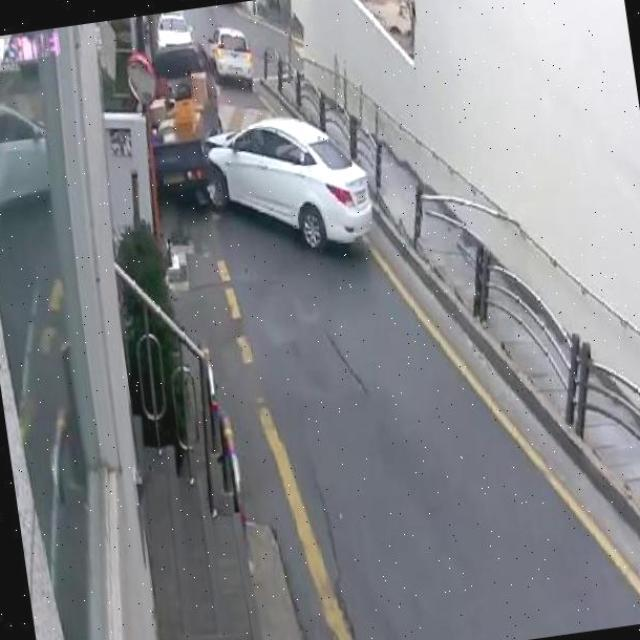accident: (150, 92, 290, 225)
